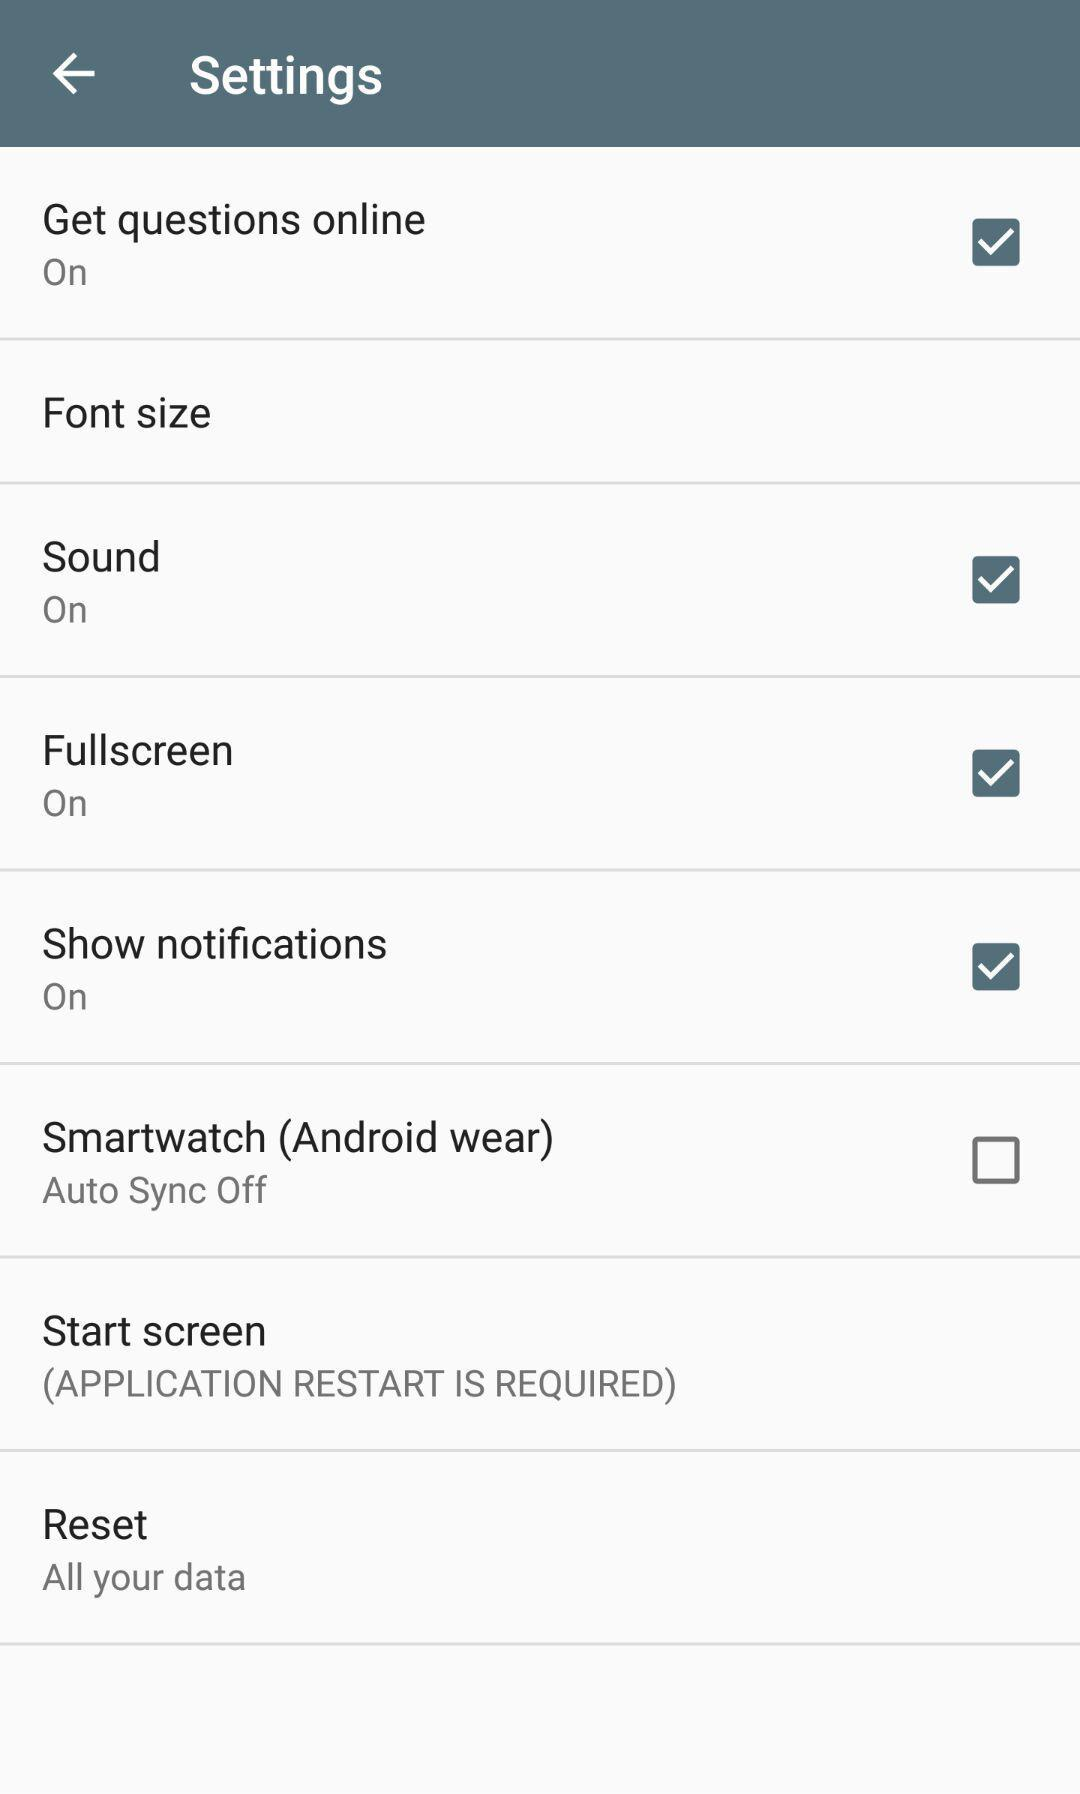CheckedTextView: (971, 217, 1021, 268), (971, 1135, 1021, 1185), (971, 942, 1021, 992), (971, 750, 1021, 800), (971, 555, 1021, 605)
Icon: (53, 53, 97, 96)
Text: (44, 1365, 676, 1406), (44, 1117, 553, 1164), (44, 202, 427, 243), (44, 925, 386, 961), (190, 54, 383, 108), (44, 1174, 275, 1214), (42, 1559, 247, 1599), (42, 1313, 266, 1348), (45, 733, 233, 768), (44, 396, 211, 431), (44, 539, 160, 575), (45, 1507, 150, 1542), (44, 982, 88, 1014), (44, 595, 88, 625), (44, 258, 88, 288), (44, 788, 88, 818)
Toolbar: (1, 1, 1080, 149)
